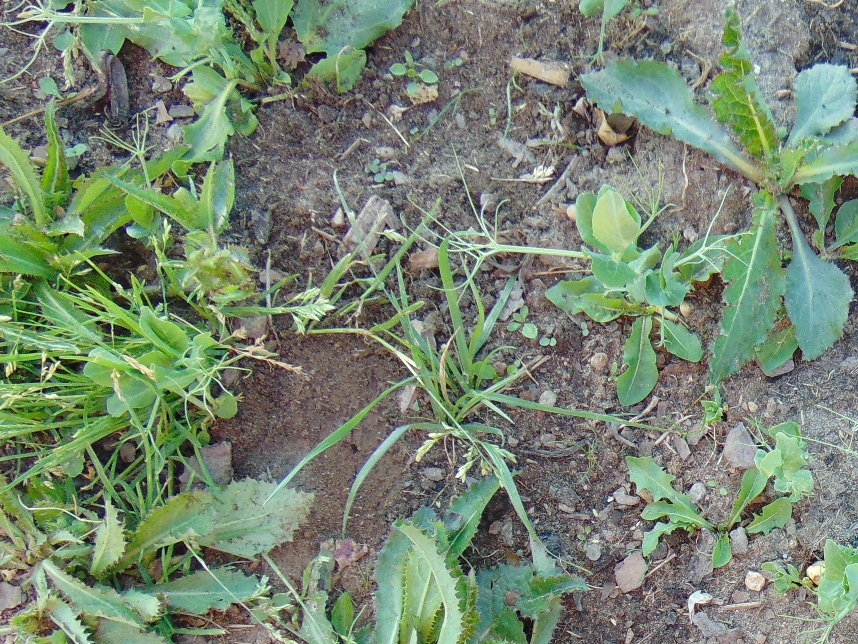crop: (422, 178, 679, 288), (85, 303, 237, 407), (16, 1, 217, 45), (762, 543, 858, 628), (749, 422, 826, 499), (572, 1, 633, 68)
weed: (1, 466, 335, 642), (694, 18, 854, 370), (335, 473, 588, 644), (28, 79, 247, 240), (1, 100, 87, 468), (383, 318, 531, 467), (584, 53, 764, 172), (630, 452, 790, 563), (215, 1, 417, 86), (554, 295, 699, 406), (253, 243, 422, 338), (6, 412, 239, 465), (71, 414, 219, 482), (544, 276, 618, 314), (389, 47, 437, 84)
